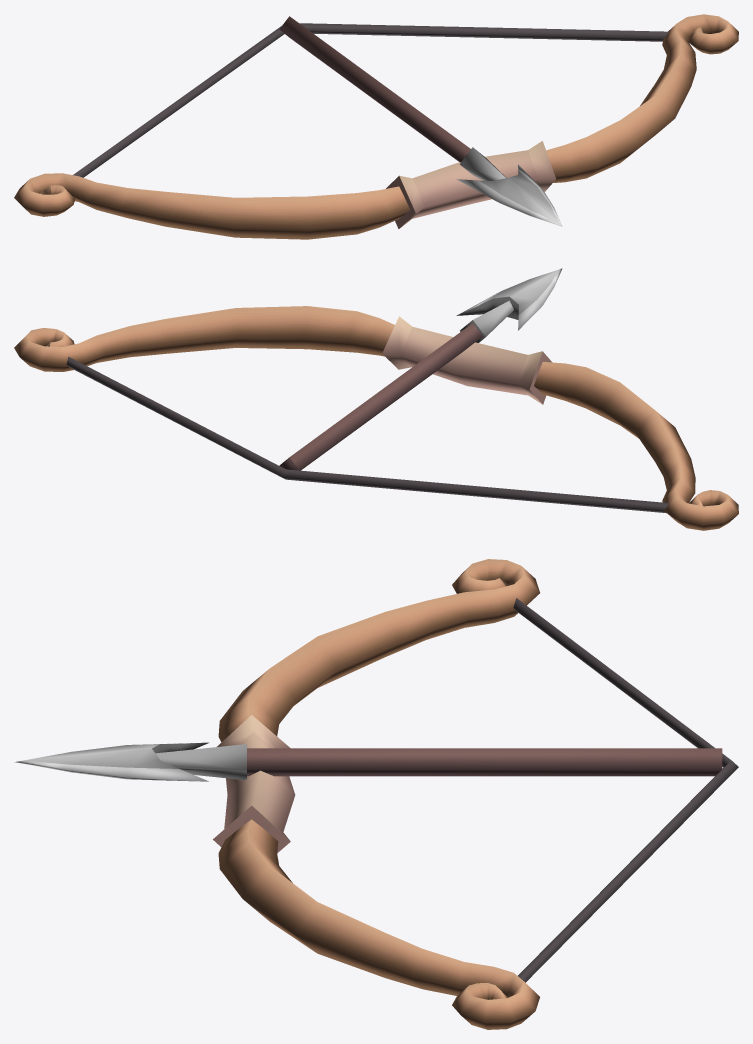
File: VK_cung1.fbx
3 renders of one model, top to bottom at view 1: azimuth 30°, elevation 25°; view 2: azimuth 150°, elevation 25°; view 3: azimuth 270°, elevation 25°, orthographic. The views are drawn at different scales.
Visible parts, largest first — view 1: VK_cung1_m, VK_tenC; view 2: VK_cung1_m, VK_tenC; view 3: VK_cung1_m, VK_tenC.
Boxes of the visible parts, x1,y1,x2,y2 form: VK_cung1_m: (14, 14, 738, 239); VK_tenC: (279, 16, 562, 226); VK_cung1_m: (14, 306, 738, 530); VK_tenC: (279, 268, 562, 470); VK_cung1_m: (213, 559, 738, 1029); VK_tenC: (14, 742, 722, 781).
Bounding box in the file's own units: 1.47 × 0.1299 × 0.9951.
